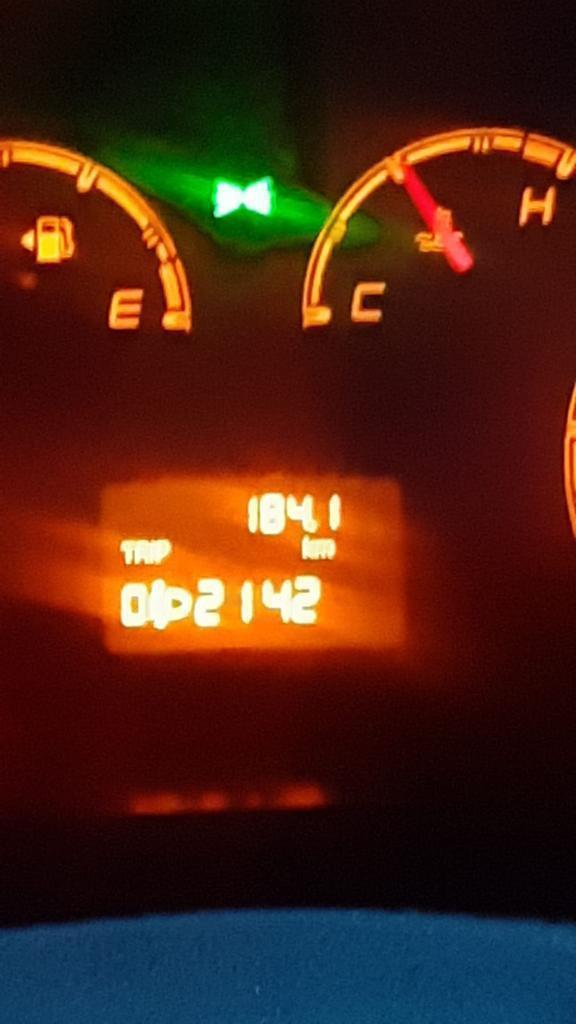,: (310, 518, 321, 533)
0: (117, 579, 149, 629)
1: (237, 576, 256, 625), (325, 490, 342, 533), (244, 492, 259, 536)
2: (291, 570, 323, 627), (192, 576, 227, 628)
4: (259, 576, 291, 624), (286, 490, 314, 537)
8: (258, 490, 287, 537)
X: (315, 535, 338, 562), (116, 537, 135, 566), (157, 537, 174, 566), (299, 533, 314, 562), (134, 538, 148, 565), (148, 537, 157, 566)
odometer: (88, 467, 417, 666)
